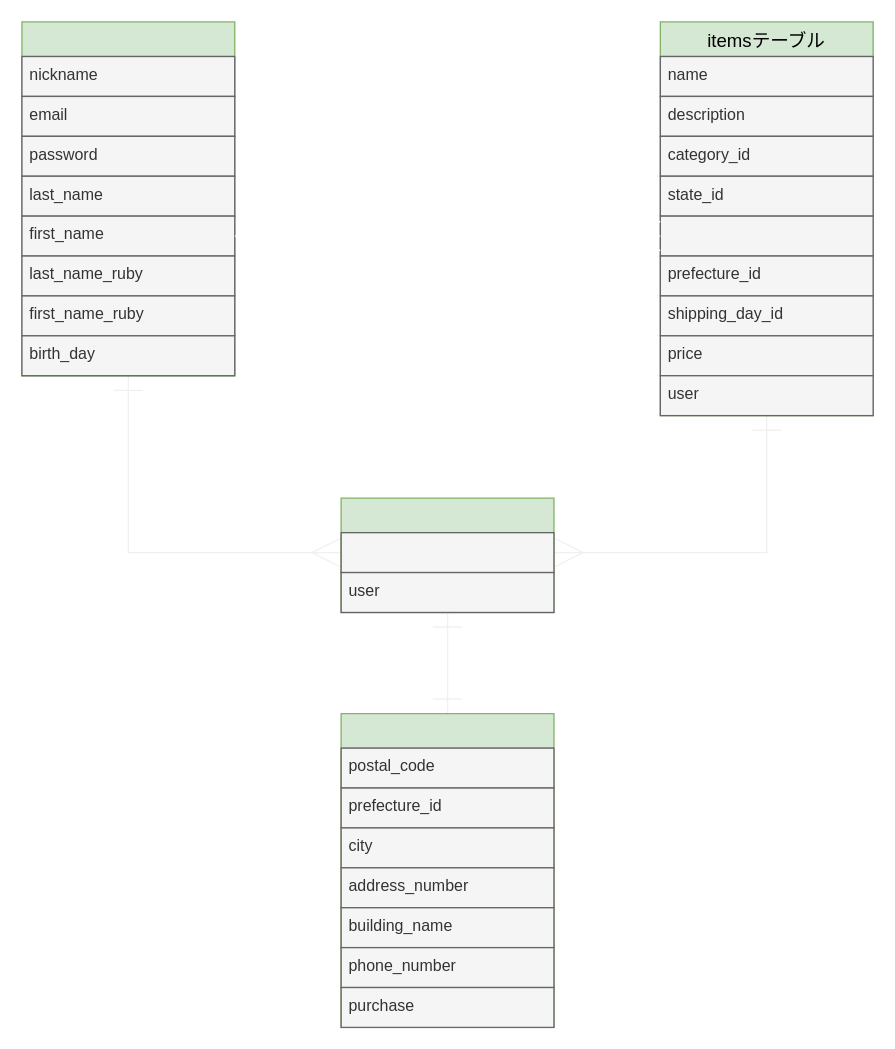
Some shapes in this 895 by 1049 pixel diagram are drawn without their labels. The shapes that lost their labels are listed below. From the top down, each one's box as (x1, y1, x2, y2) in pixels, then its label:
(21, 21, 235, 376): usersテーブル
(659, 215, 873, 256): shipping_cost_payer_id
(340, 531, 554, 573): item
(340, 497, 554, 612): purchasesテーブル
(340, 712, 554, 1027): addressesテーブル
